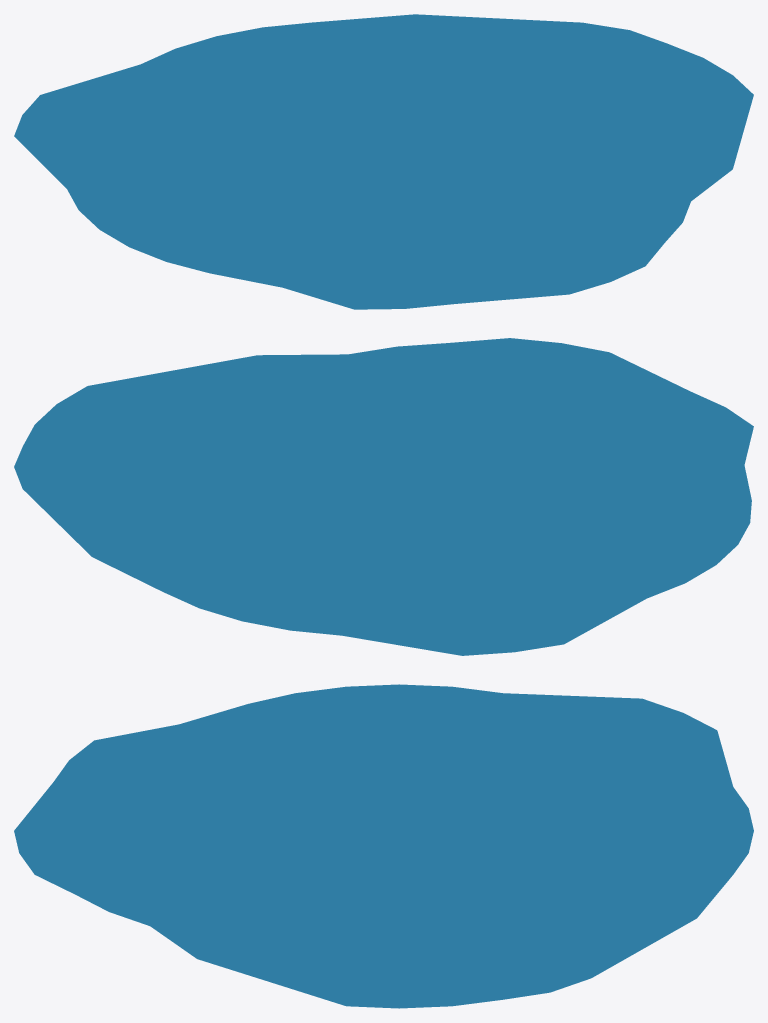
The model's file is woda.fbx.
3 views of the same model, one above another, from view 1: azimuth 30°, elevation 25°; view 2: azimuth 150°, elevation 25°; view 3: azimuth 270°, elevation 25° (orthographic). The views are drawn at different scales.
Visible parts, largest first — view 1: Circle; view 2: Circle; view 3: Circle.
Boxes of the visible parts, <box> form: Circle: <box>14,14,753,309</box>; Circle: <box>14,338,753,655</box>; Circle: <box>14,684,753,1008</box>.
Size of the model in its own units: 282 by 0.5549 by 272.
